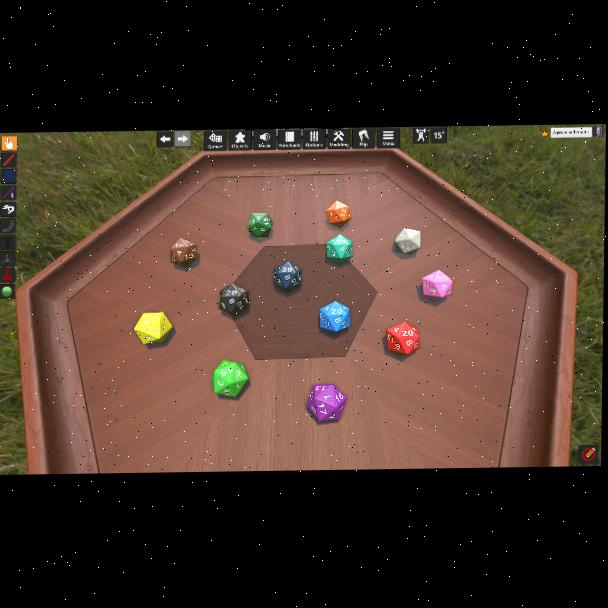d20: (306, 383, 346, 421), (212, 361, 249, 398), (135, 311, 173, 344), (385, 321, 417, 355), (318, 301, 350, 333), (218, 284, 249, 315), (168, 238, 198, 268), (421, 270, 450, 301), (273, 261, 301, 292), (326, 235, 352, 265), (325, 201, 349, 229), (396, 228, 421, 254), (246, 213, 271, 239)
